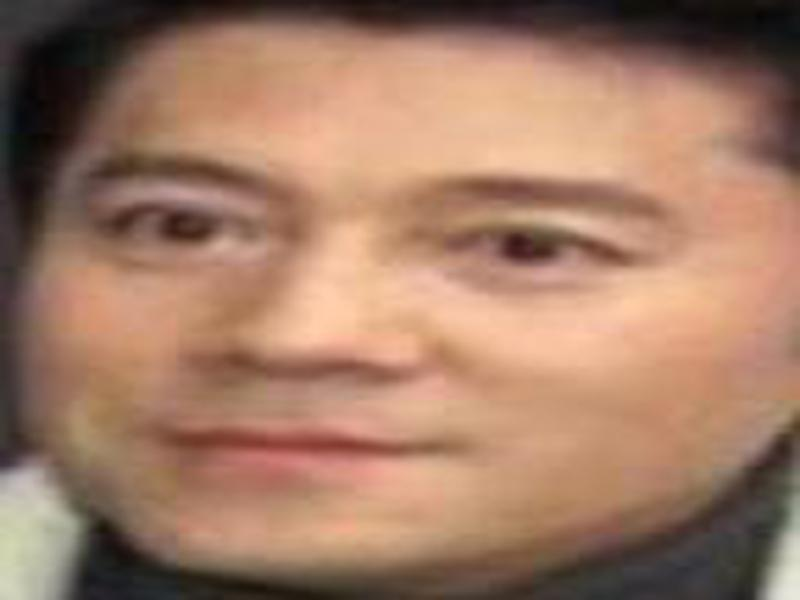without_mask: (14, 25, 791, 589)
